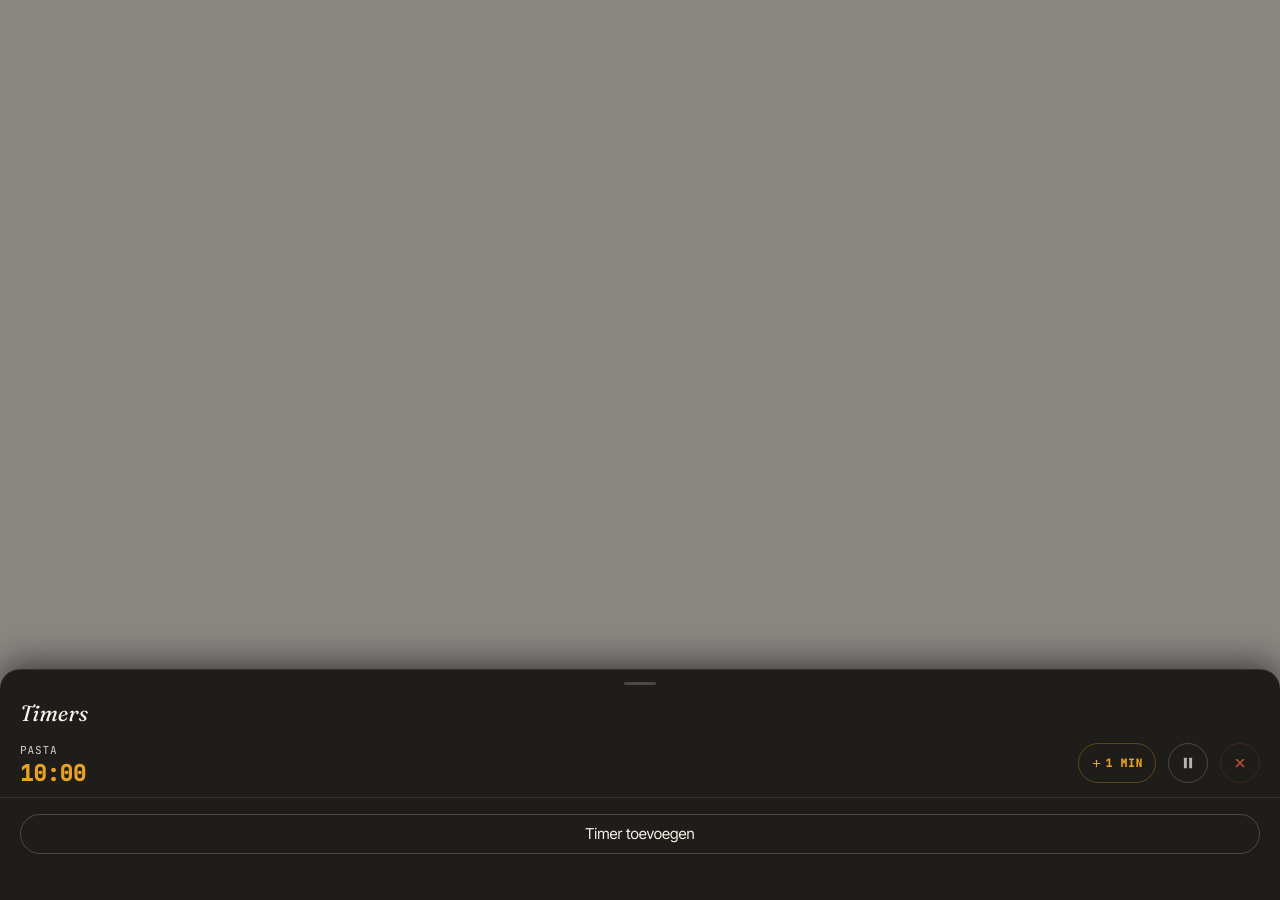
it: TimerSheet › paused timer › shows the resume button after pausing
This screenshot has width=1280, height=900.
Click the button named "Timer pauzeren" at (1188, 763), box [1168,743,1208,783]
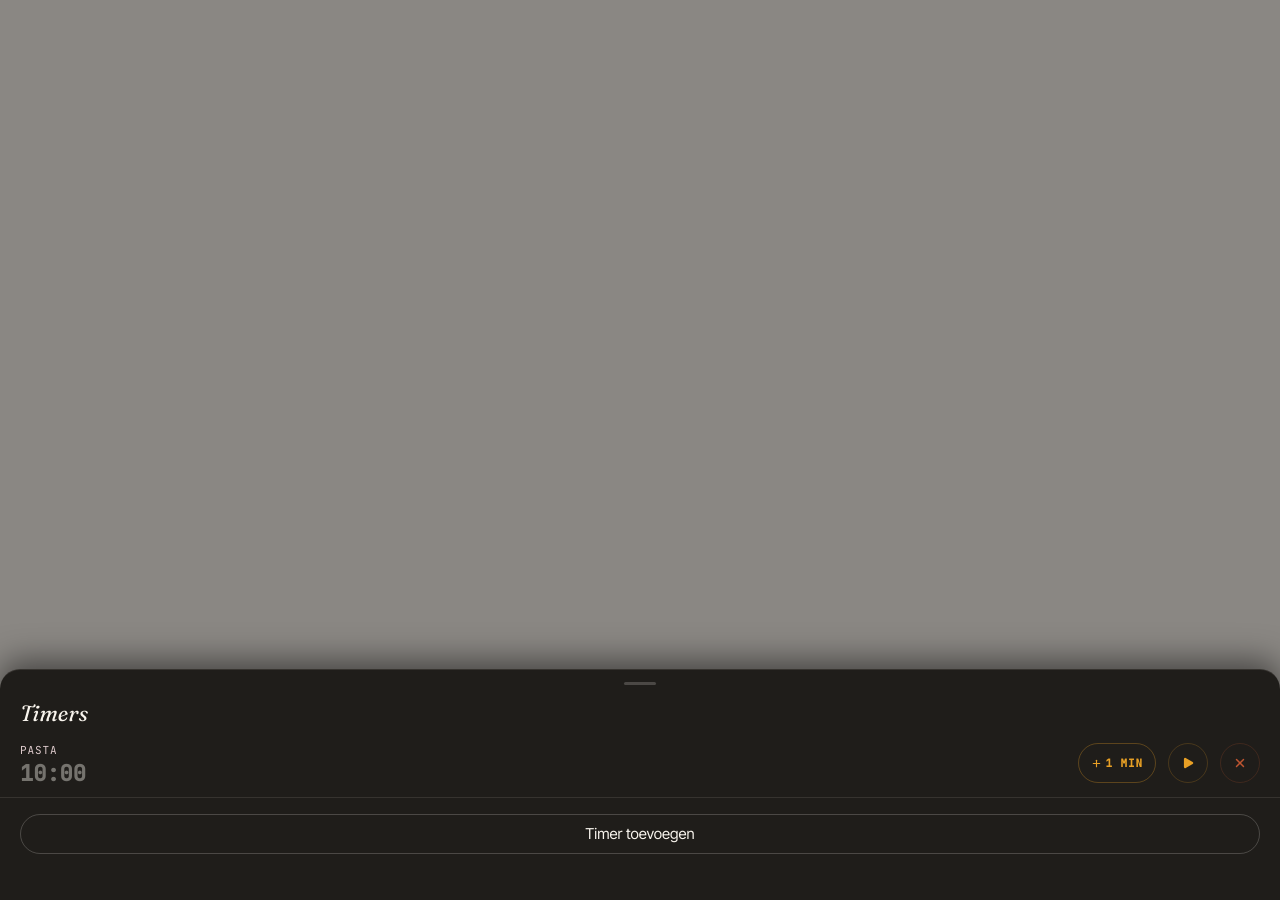
Check: the button named "Timer hervatten" is shown, box [1168,743,1208,783]
